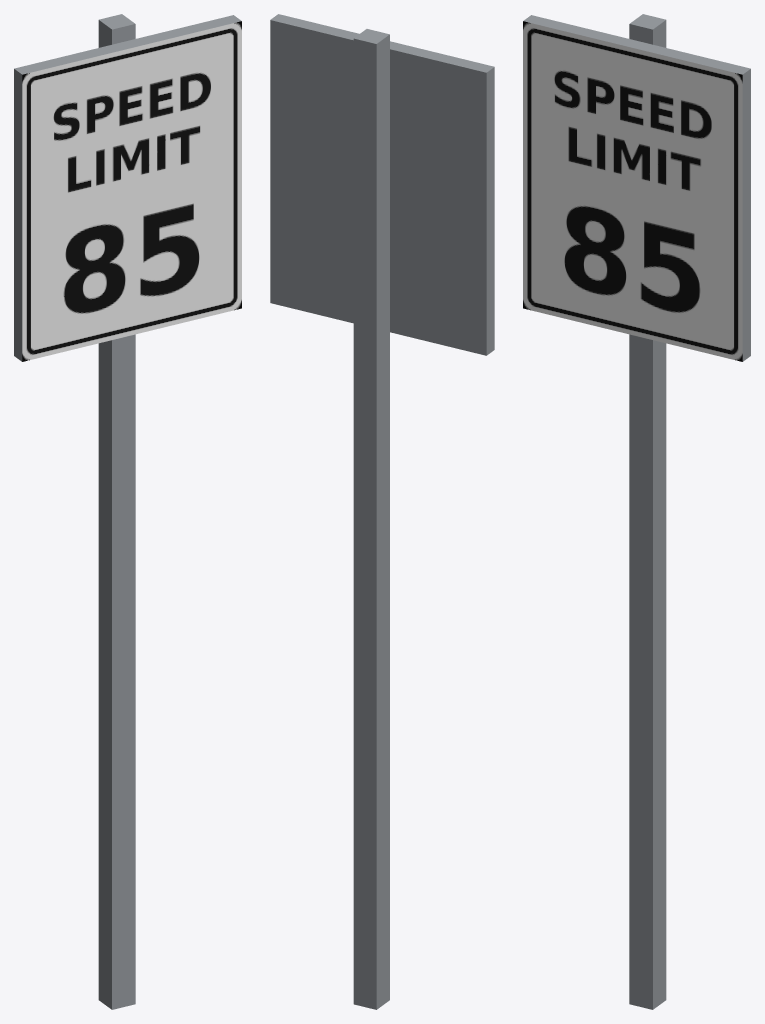
The model's file is us_speed85.dae.
3 renders of one model, left to right at view 1: azimuth 30°, elevation 25°; view 2: azimuth 150°, elevation 25°; view 3: azimuth 330°, elevation 25°, orthographic.
Parts seen in each view (by area): view 1: sign4, Colmesh-1; view 2: Colmesh-1, sign4; view 3: sign4, Colmesh-1.
Boxes of the visible parts, x1=… form: sign4: x1=22, y1=14, x2=241, y2=1009; Colmesh-1: x1=14, y1=15, x2=241, y2=361; Colmesh-1: x1=270, y1=14, x2=494, y2=355; sign4: x1=353, y1=29, x2=389, y2=1009; sign4: x1=523, y1=14, x2=742, y2=1009; Colmesh-1: x1=523, y1=15, x2=750, y2=361.
Bounding box in the file's own units: 0.6096 × 0.105 × 2.6.
Materials: 2 (1 with a texture image).
